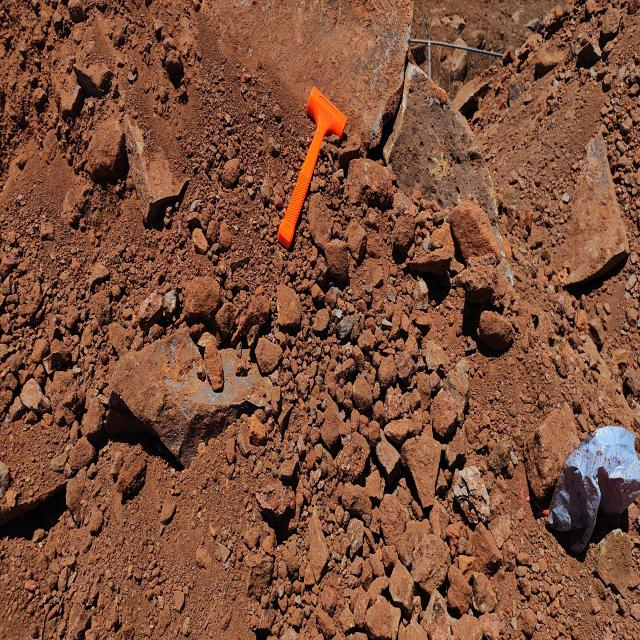Orange_hammer: (277, 85, 347, 250)
